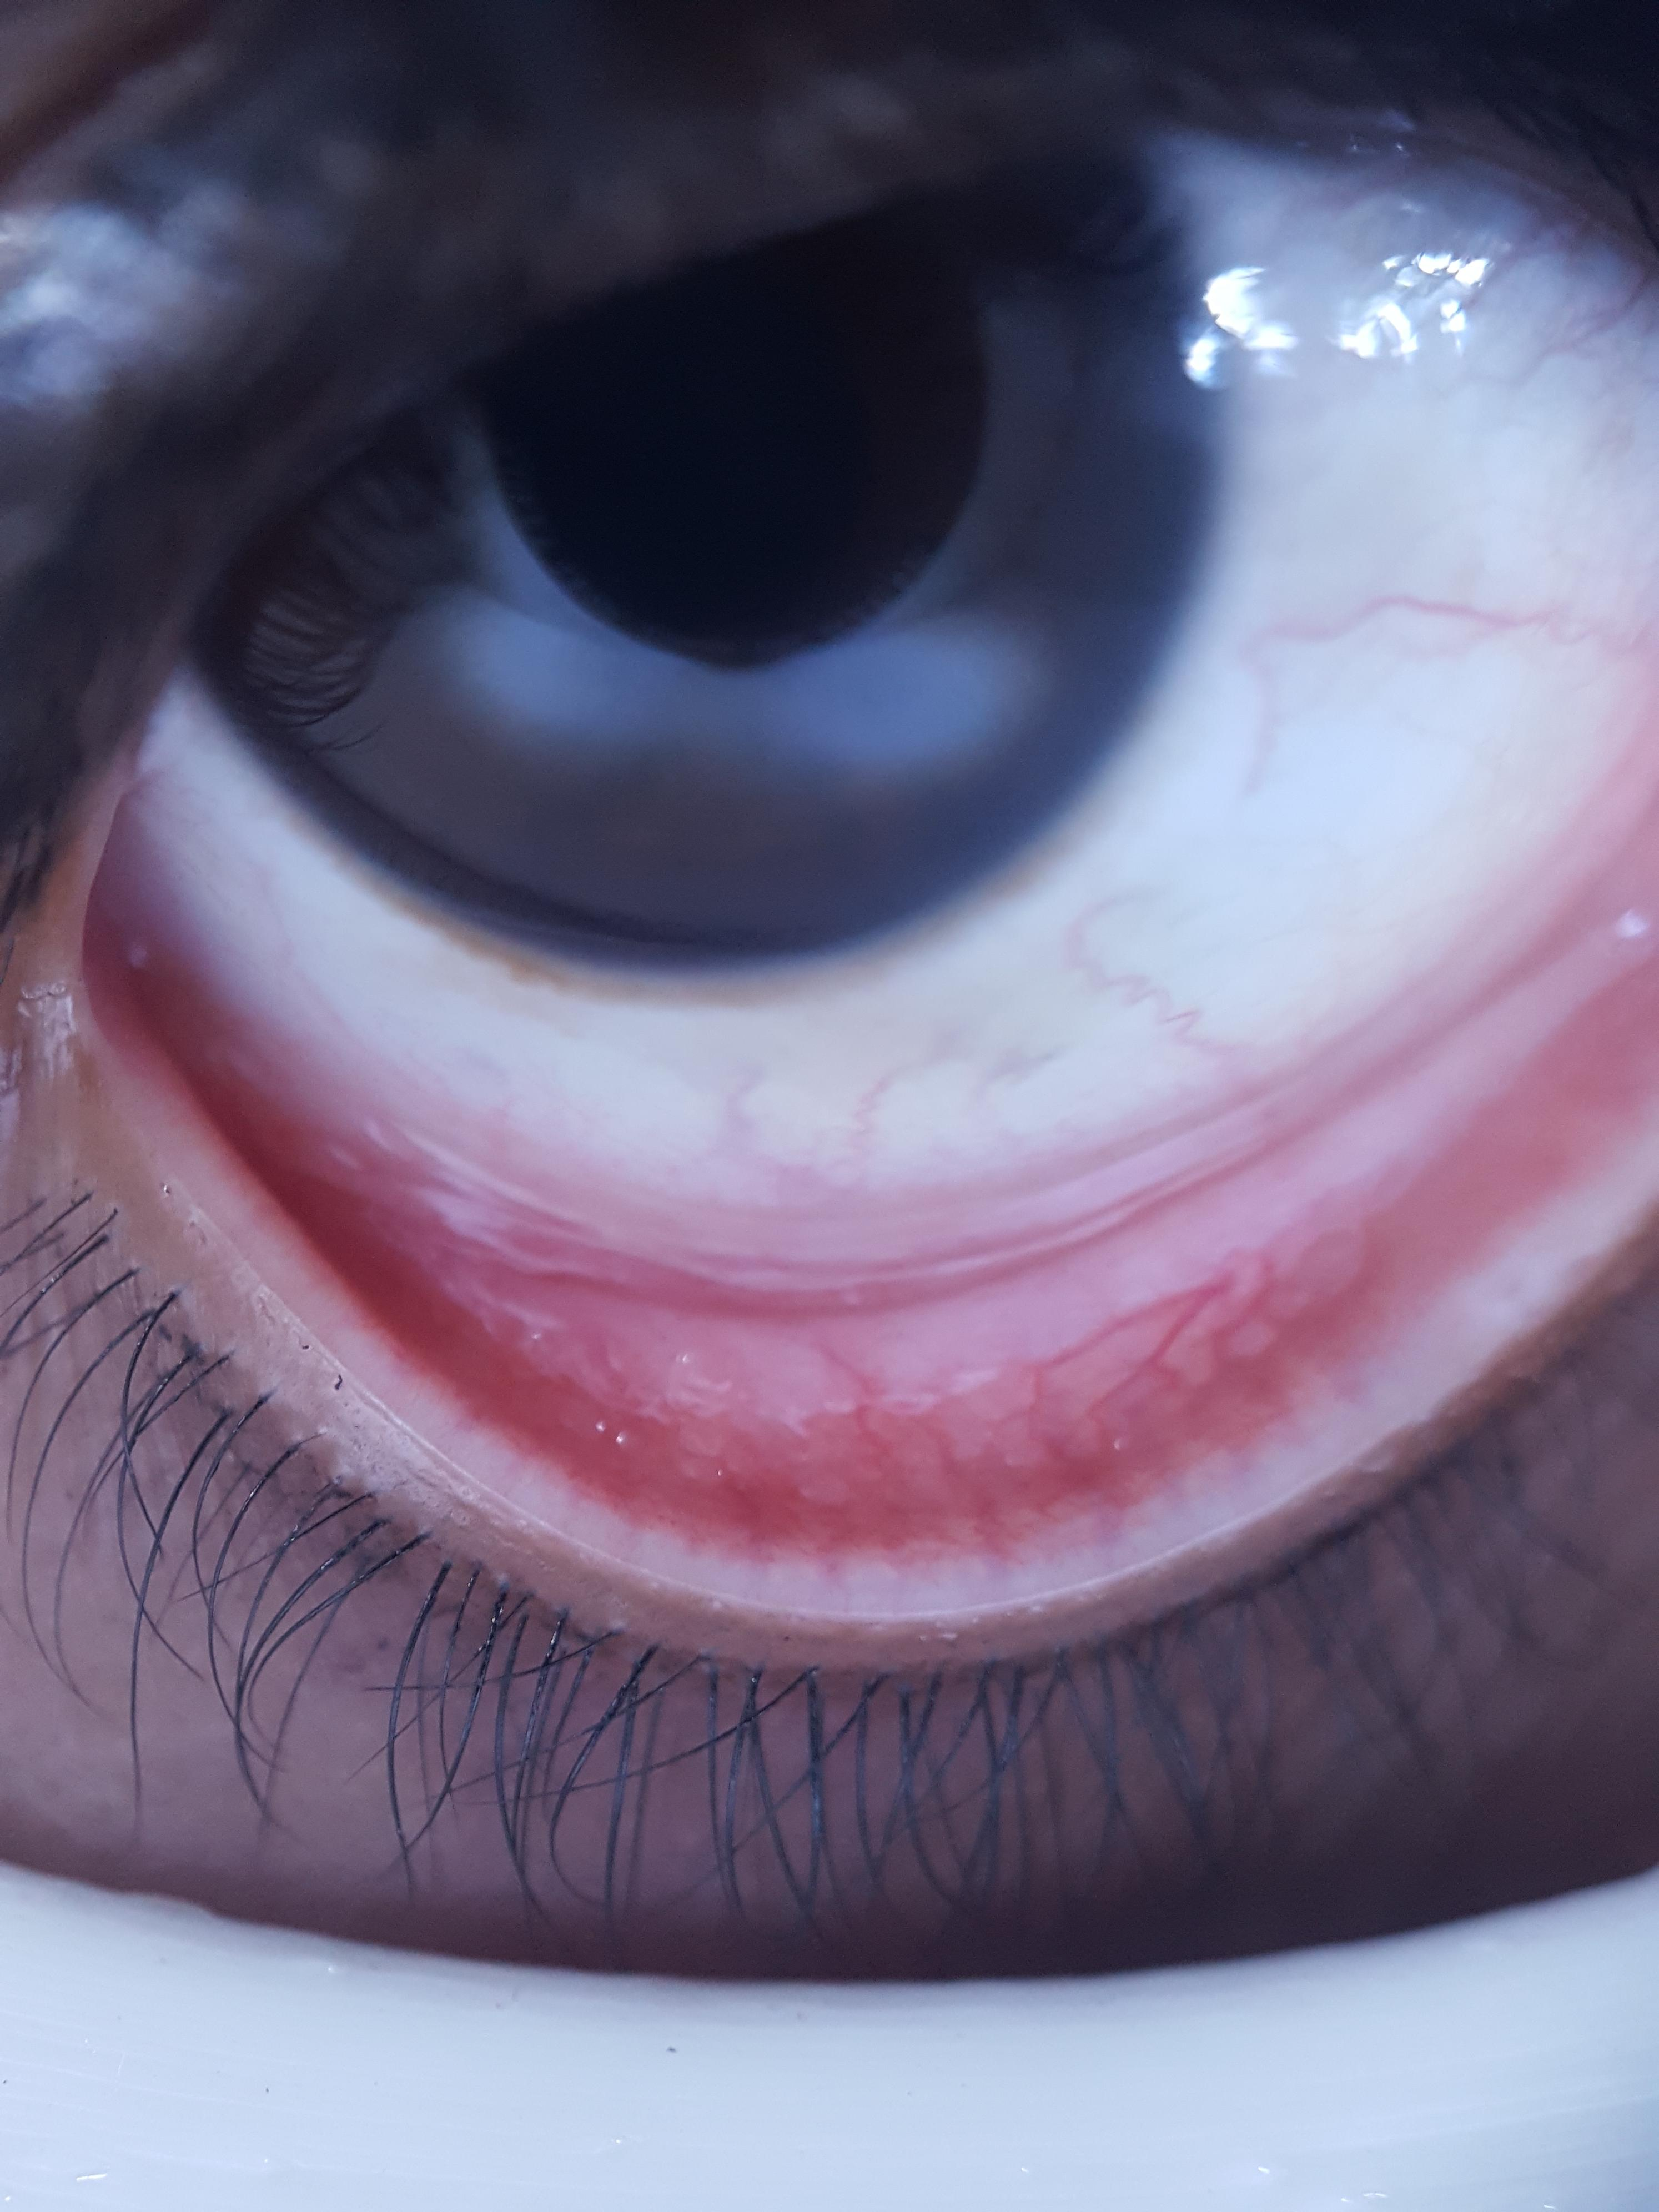forniceal: (214, 911, 1657, 1444)
forniceal_palpebral: (131, 899, 1659, 1571)
palpebral: (146, 960, 1659, 1555)
